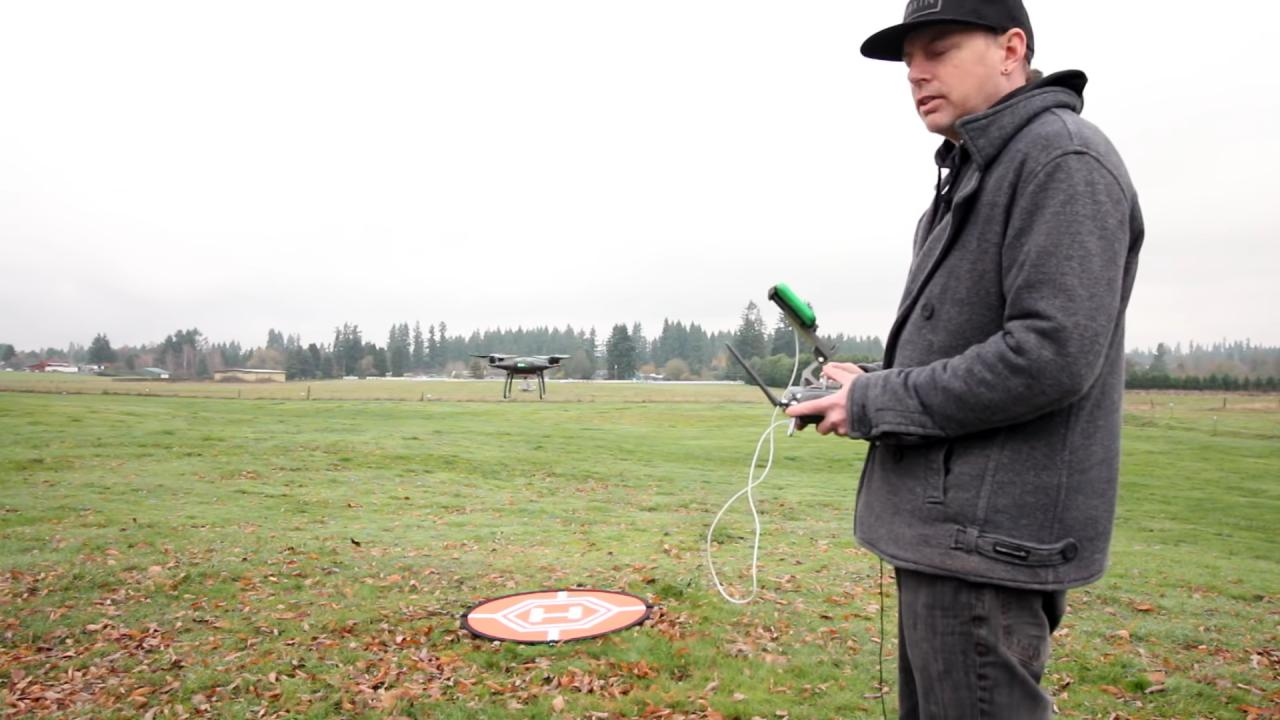Drone: (458, 342, 585, 408)
